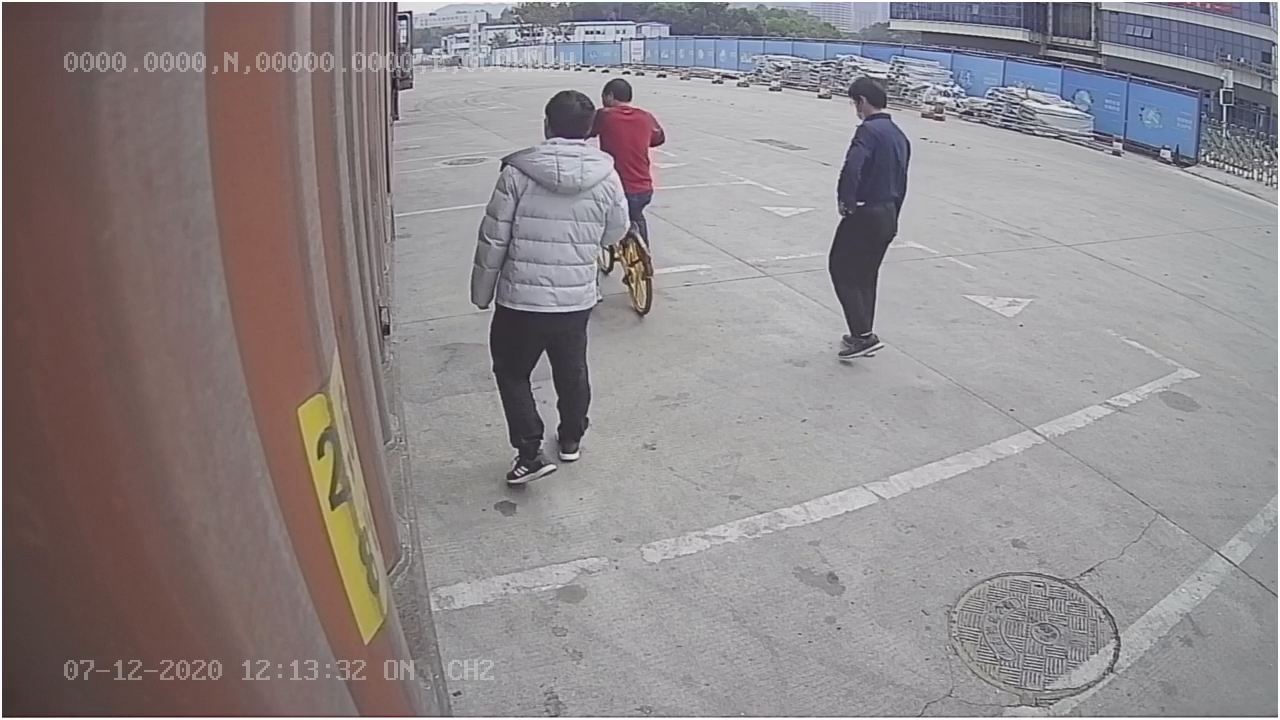person: (818, 75, 924, 363)
